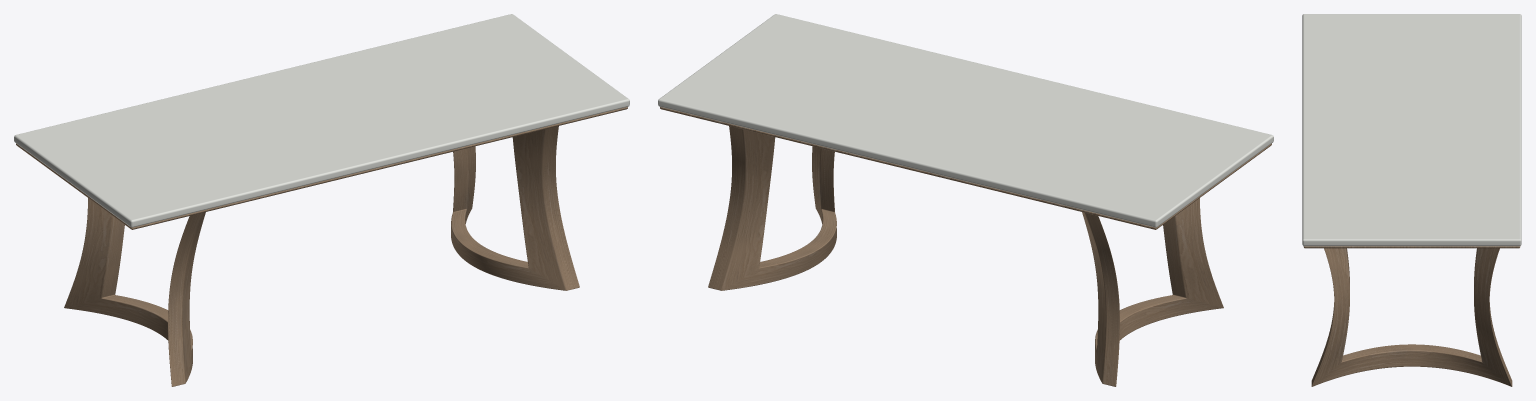
Rendered from masa.glb.
The picture shows the model from 3 angles, left to right: view 1: azimuth 30°, elevation 25°; view 2: azimuth 150°, elevation 25°; view 3: azimuth 270°, elevation 25°; orthographic projection. The views are drawn at different scales.
Visible parts, largest first — view 1: Tabla - 220 x 90 cm, Sag - tasmasiz tek parca yay ayak, Sol - tasmasiz tek parca yay ayak, Ince ahsap tabla alti; view 2: Tabla - 220 x 90 cm, Sag - tasmasiz tek parca yay ayak, Sol - tasmasiz tek parca yay ayak, Ince ahsap tabla alti; view 3: Tabla - 220 x 90 cm, Sag - tasmasiz tek parca yay ayak, Ince ahsap tabla alti.
Boxes of the visible parts, x1,y1,x2,y2 form: Tabla - 220 x 90 cm: [14, 14, 629, 227]; Sag - tasmasiz tek parca yay ayak: [451, 126, 579, 290]; Sol - tasmasiz tek parca yay ayak: [64, 198, 205, 386]; Ince ahsap tabla alti: [16, 107, 627, 229]; Tabla - 220 x 90 cm: [658, 14, 1273, 227]; Sag - tasmasiz tek parca yay ayak: [708, 126, 836, 290]; Sol - tasmasiz tek parca yay ayak: [1082, 198, 1223, 386]; Ince ahsap tabla alti: [660, 107, 1271, 229]; Tabla - 220 x 90 cm: [1302, 14, 1521, 246]; Sag - tasmasiz tek parca yay ayak: [1311, 248, 1512, 386]; Ince ahsap tabla alti: [1303, 246, 1520, 248].
Bounding box in the file's own units: 2.2 × 0.762 × 0.9.
Materials: 2 (1 with a texture image).
